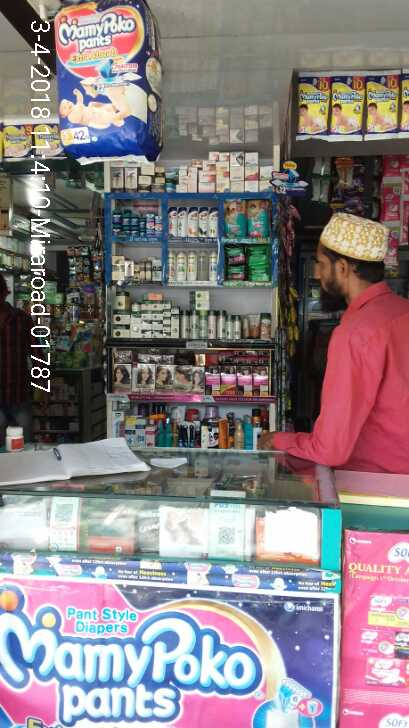vicks: (111, 205, 165, 238)
